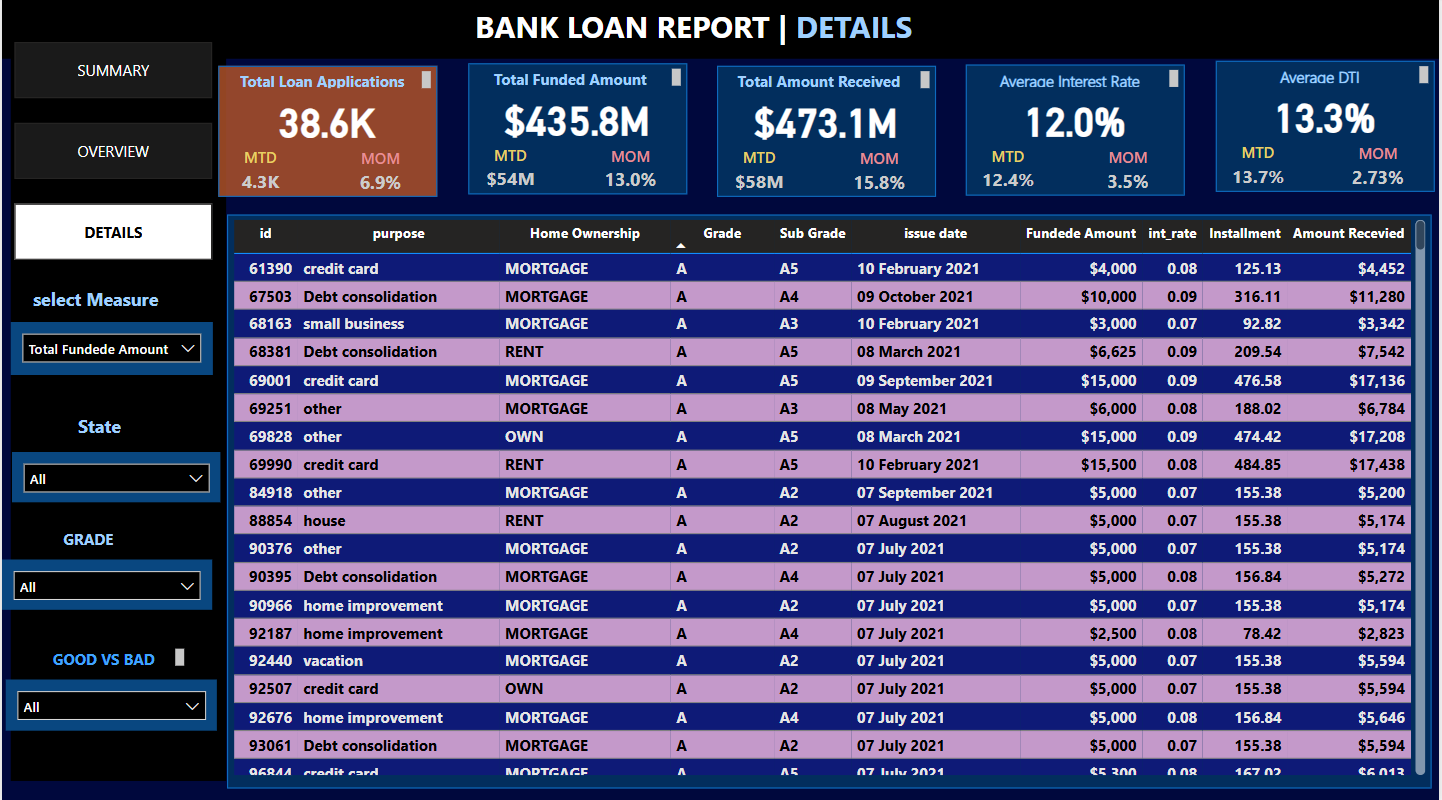

The dashboard page shown, as its layout file describes it:
{"tool":"powerbi","page":{"name":"DETAILS","canvas":[1280,720],"ordinal":2},"visuals":[{"type":"shape","box":[0,0,1280,55],"z":0},{"type":"shape","box":[1081,56.7,195.4,117],"z":0,"group":"g5"},{"type":"shape","box":[414.9,59.1,195.4,117],"z":0,"group":"g2"},{"type":"shape","box":[858.8,59.6,195.4,117],"z":0,"group":"g4"},{"type":"shape","box":[636.7,60.9,195.4,117],"z":0,"group":"g3"},{"type":"shape","box":[193,61.5,195.4,117],"z":0,"group":"g1"},{"type":"shape","box":[7.2,33.8,191.8,664.7],"z":1000},{"type":"textbox","box":[416.2,3.6,448.8,48.3],"z":2000},{"type":"group","id":"g1","title":"Group 1","box":[191.8,61.5,196.6,119.4],"z":3000},{"type":"group","id":"g2","title":"Group 1","box":[413.7,59.1,196.6,119.4],"z":4000},{"type":"card","fields":{"Values":["bank_loan_data.AVG_DTI"]},"box":[1081,79.6,193.8,50.7],"z":4000,"group":"g5"},{"type":"card","fields":{"Values":["bank_loan_data.Total Fundede Amount"]},"box":[414.9,82,193.8,50.7],"z":4000,"group":"g2"},{"type":"card","fields":{"Values":["bank_loan_data.Avg Interest Rate"]},"box":[858.8,82.5,193.8,50.7],"z":4000,"group":"g4"},{"type":"card","fields":{"Values":["bank_loan_data.Total Amount Recevied"]},"box":[636.7,83.8,193.8,50.7],"z":4000,"group":"g3"},{"type":"card","fields":{"Values":["bank_loan_data.Total Loan Applications"]},"box":[193,84.4,193.8,50.7],"z":4000,"group":"g1"},{"type":"textbox","box":[1079.8,56.7,195.4,25.3],"z":5000,"group":"g5"},{"type":"textbox","box":[413.7,59.1,195.4,25.3],"z":5000,"group":"g2"},{"type":"textbox","box":[857.6,59.6,195.4,25.3],"z":5000,"group":"g4"},{"type":"textbox","box":[635.5,60.9,195.4,25.3],"z":5000,"group":"g3"},{"type":"textbox","box":[191.8,61.5,195.4,25.3],"z":5000,"group":"g1"},{"type":"shape","box":[200.3,194.2,1072.5,511.5],"z":5000},{"type":"card","title":"MTD","fields":{"Values":["bank_loan_data.MTD AVG_DTI"]},"box":[1081.1,129.6,75,43.3],"z":6000,"group":"g5"},{"type":"card","title":"MTD","fields":{"Values":["bank_loan_data.MTD Funded Amount"]},"box":[415,132,75,43.3],"z":6000,"group":"g2"},{"type":"card","title":"MTD","fields":{"Values":["bank_loan_data.MTD AVG_IN_rate"]},"box":[858.9,132.5,75,43.3],"z":6000,"group":"g4"},{"type":"card","title":"MTD","fields":{"Values":["bank_loan_data.MTD Total Amount Received"]},"box":[636.8,133.8,75,43.3],"z":6000,"group":"g3"},{"type":"card","title":"MTD","fields":{"Values":["bank_loan_data.MTD Loan Applications"]},"box":[193.1,134.4,75,43.3],"z":6000,"group":"g1"},{"type":"textbox","box":[10.6,252.6,144.8,32.6],"z":6000},{"type":"group","id":"g3","title":"Group 1","box":[635.5,60.9,196.9,120.5],"z":7000},{"type":"card","title":"MOM","fields":{"Values":["bank_loan_data.MOM AVG_DTI"]},"box":[1177.8,129.7,95.3,47.1],"z":7000,"group":"g5"},{"type":"card","title":"MOM","fields":{"Values":["bank_loan_data.MOM Funded Amount"]},"box":[511.7,132.1,95.3,47.1],"z":7000,"group":"g2"},{"type":"card","title":"MOM","fields":{"Values":["bank_loan_data.MOM AVG_INTEREST_RATE"]},"box":[955.6,132.6,95.3,47.1],"z":7000,"group":"g4"},{"type":"card","title":"MOM","fields":{"Values":["bank_loan_data.MOM Amount Received"]},"box":[733.5,133.9,95.3,47.1],"z":7000,"group":"g3"},{"type":"card","title":"MOM","fields":{"Values":["bank_loan_data.MOM loan applications"]},"box":[289.8,134.5,95.3,47.1],"z":7000,"group":"g1"},{"type":"group","id":"g4","title":"Group 1","box":[857.6,59.6,196.9,120.5],"z":8000},{"type":"group","id":"g5","title":"Group 1","box":[1079.8,56.7,196.6,120.6],"z":9000},{"type":"slicer","fields":{"Values":["bank_loan_data.sub_grade"]},"box":[0,500.7,187,44.6],"z":10000},{"type":"slicer","fields":{"Values":["bank_loan_data.address_state"]},"box":[8.4,405.4,185.8,44.6],"z":11000},{"type":"slicer","fields":{"Values":["bank_loan_data.Good Loan vs Bad Loan"]},"box":[3.6,608,188.2,45.8],"z":12000},{"type":"textbox","box":[4.8,468.1,144.8,32.6],"z":13000},{"type":"textbox","box":[21.7,575.5,144.8,32.6],"z":14000},{"type":"slicer","fields":{"Values":["Select Measure.Select Measure"]},"box":[7.2,289.5,179.8,47.1],"z":15000},{"type":"textbox","box":[14.8,365.9,144.8,32.6],"z":16000},{"type":"tableEx","fields":{"Values":["bank_loan_data.id","bank_loan_data.purpose","bank_loan_data.home_ownership","bank_loan_data.grade","bank_loan_data.sub_grade","bank_loan_data.issue_date","bank_loan_data.Total Fundede Amount","Sum(bank_loan_data.int_rate)","Sum(bank_loan_data.installment)","bank_loan_data.Total Amount Recevied"]},"box":[200.3,194.2,1072.5,504.3],"z":17000},{"type":"pageNavigator","box":[10.9,39.8,176.1,195.4],"z":18000}]}

Visuals, with their boxes in screenshot pixels (x1, y1, x2, y2), scaled from the page's 1280x720 canvas onto the 1442x800 screenshot:
shape: 0, 0, 1441, 61
shape: 1218, 63, 1438, 193
shape: 467, 66, 688, 196
shape: 967, 66, 1188, 196
shape: 717, 68, 937, 198
shape: 217, 68, 438, 198
shape: 8, 38, 224, 776
textbox: 469, 4, 974, 58
"Group 1" group: 216, 68, 438, 201
"Group 1" group: 466, 66, 688, 198
card - bank_loan_data.AVG_DTI: 1218, 88, 1436, 145
card - bank_loan_data.Total Fundede Amount: 467, 91, 686, 147
card - bank_loan_data.Avg Interest Rate: 967, 92, 1186, 148
card - bank_loan_data.Total Amount Recevied: 717, 93, 936, 149
card - bank_loan_data.Total Loan Applications: 217, 94, 436, 150
textbox: 1216, 63, 1437, 91
textbox: 466, 66, 686, 94
textbox: 966, 66, 1186, 94
textbox: 716, 68, 936, 96
textbox: 216, 68, 436, 96
shape: 226, 216, 1434, 784
"MTD" card: 1218, 144, 1302, 192
"MTD" card: 468, 147, 552, 195
"MTD" card: 968, 147, 1052, 195
"MTD" card: 717, 149, 802, 197
"MTD" card: 218, 149, 302, 197
textbox: 12, 281, 175, 317
"Group 1" group: 716, 68, 938, 202
"MOM" card: 1327, 144, 1434, 196
"MOM" card: 576, 147, 684, 199
"MOM" card: 1077, 147, 1184, 200
"MOM" card: 826, 149, 934, 201
"MOM" card: 326, 149, 434, 202
"Group 1" group: 966, 66, 1188, 200
"Group 1" group: 1216, 63, 1438, 197
slicer - bank_loan_data.sub_grade: 0, 556, 211, 606
slicer - bank_loan_data.address_state: 9, 450, 219, 500
slicer - bank_loan_data.Good Loan vs Bad Loan: 4, 676, 216, 726
textbox: 5, 520, 169, 556
textbox: 24, 639, 188, 676
slicer - Select Measure.Select Measure: 8, 322, 211, 374
textbox: 17, 407, 180, 443
tableEx - bank_loan_data.id x bank_loan_data.purpose: 226, 216, 1434, 776
pageNavigator: 12, 44, 211, 261
